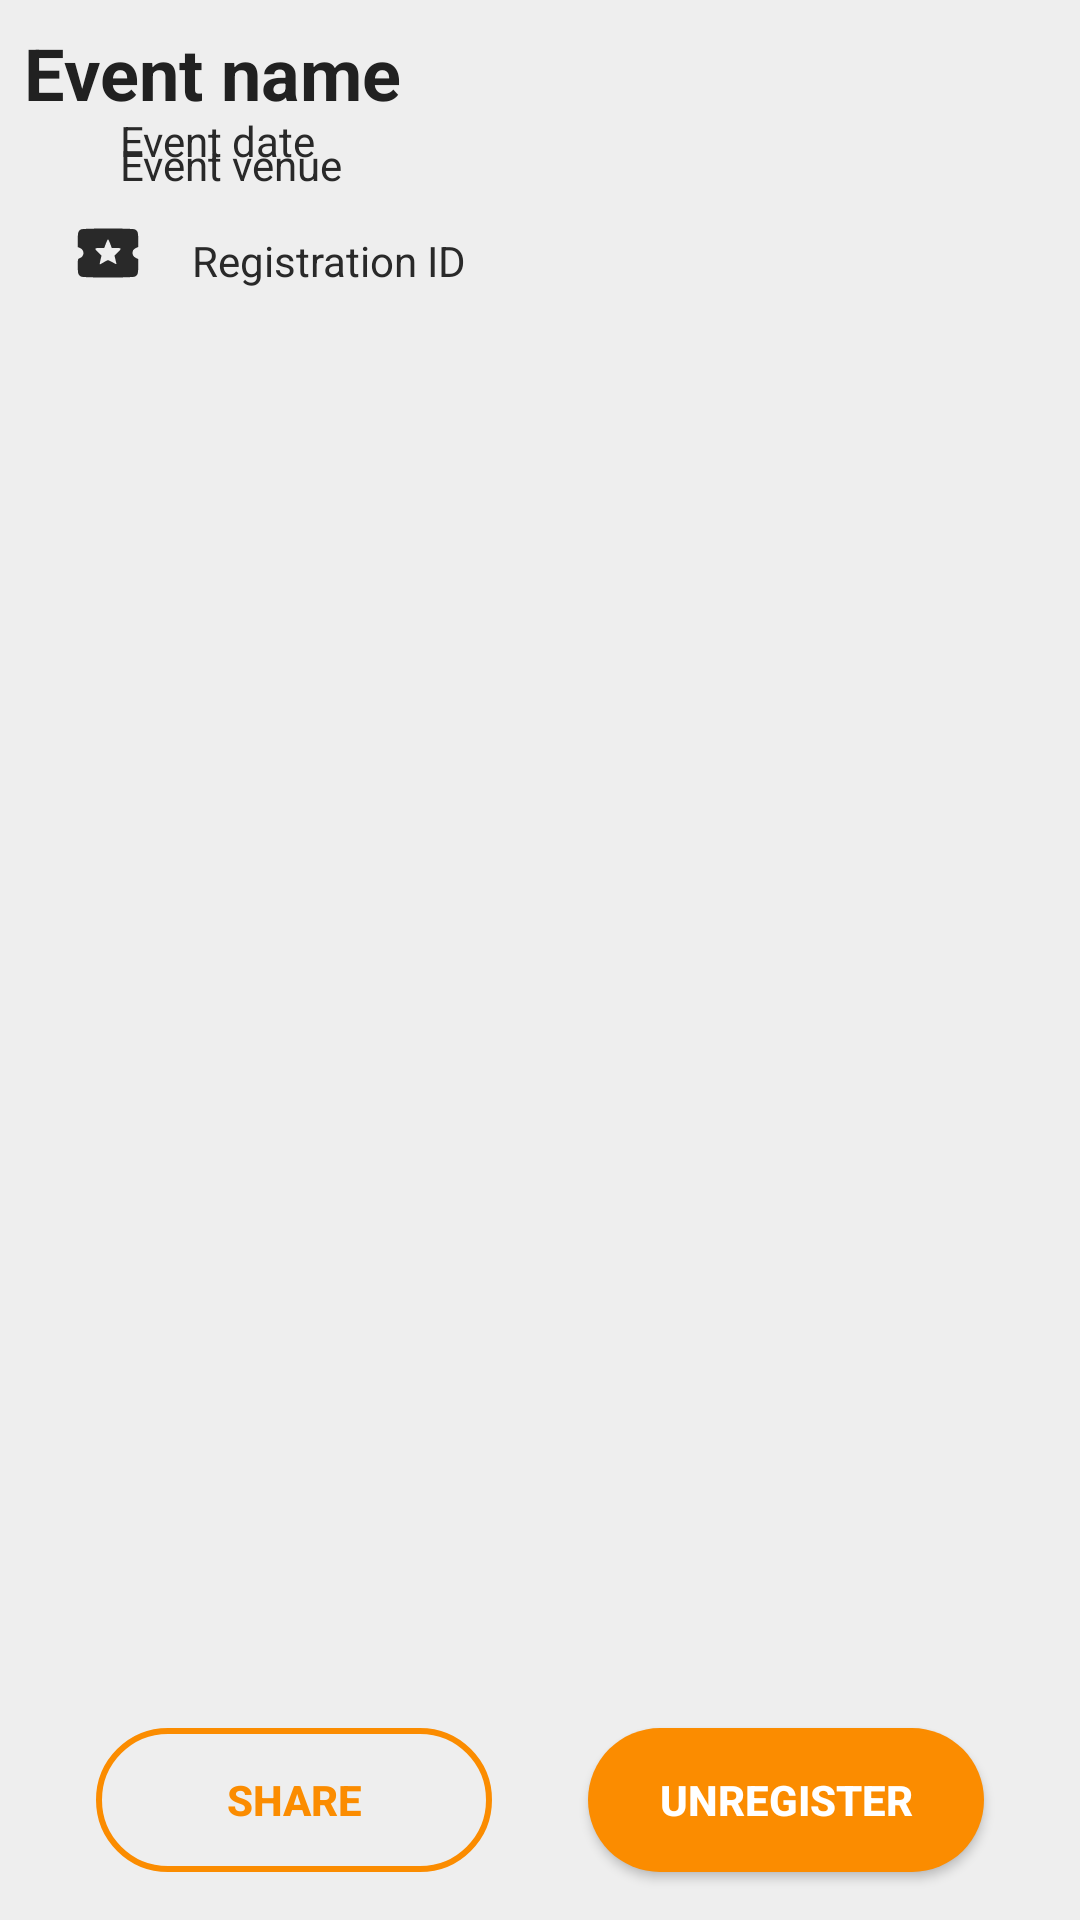

Where to tap for icons on this 1080 x 1920 app screen, as (x=x, y=y):
ticket: (x=108, y=253)
